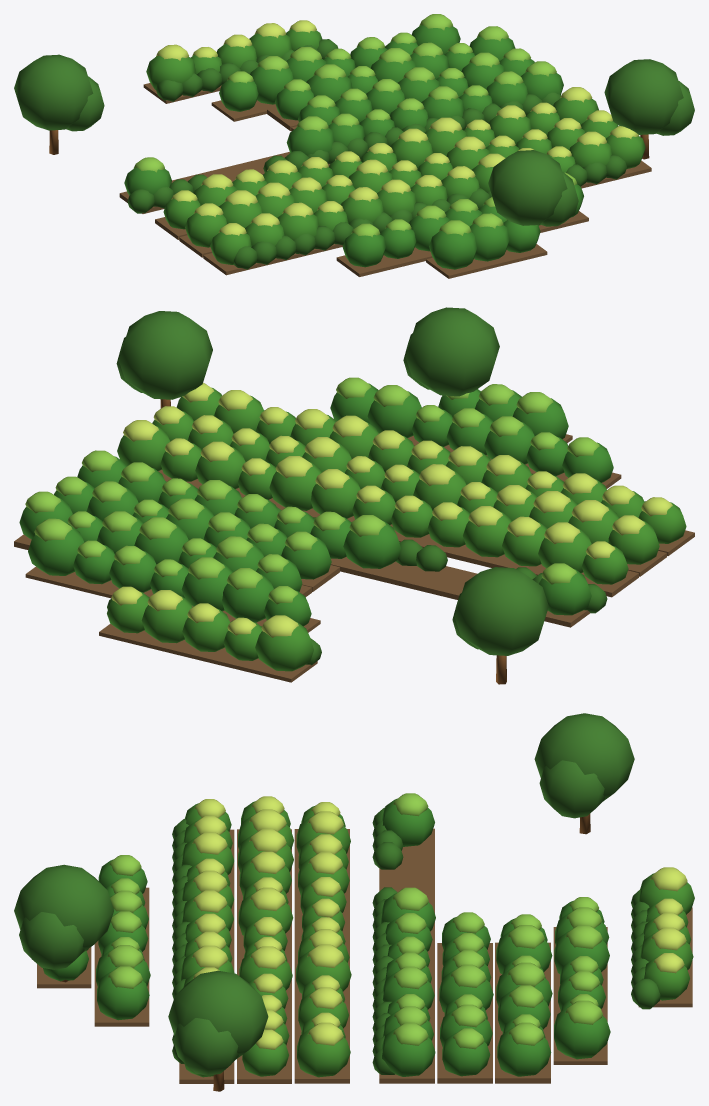
Rendered from improvement_plantation_0.fbx.
3 views of the same model, one above another, from view 1: azimuth 30°, elevation 25°; view 2: azimuth 150°, elevation 25°; view 3: azimuth 270°, elevation 25° (orthographic). The views are drawn at different scales.
Parts seen in each view (by area): view 1: improvement_plantation_0_shrub#3f8a2e_00, improvement_plantation_0_shrub#46902f_04, improvement_plantation_0_leaf#3f7a2c.006_07, improvement_plantation_0_shrubt#c8e060_05, improvement_plantation_0_hedgeb_03, improvement_plantation_0_shrubt#8cc84a_01, improvement_plantation_0_tilled.008_02; view 2: improvement_plantation_0_shrub#46902f_04, improvement_plantation_0_shrub#3f8a2e_00, improvement_plantation_0_shrubt#c8e060_05, improvement_plantation_0_leaf#3f7a2c.006_07, improvement_plantation_0_shrubt#8cc84a_01, improvement_plantation_0_tilled.008_02, improvement_plantation_0_hedgeb_03; view 3: improvement_plantation_0_shrub#3f8a2e_00, improvement_plantation_0_leaf#3f7a2c.006_07, improvement_plantation_0_shrub#46902f_04, improvement_plantation_0_shrubt#c8e060_05, improvement_plantation_0_shrubt#8cc84a_01, improvement_plantation_0_tilled.008_02, improvement_plantation_0_hedgeb_03.
Boxes of the visible parts, left/top/right/bottom form: improvement_plantation_0_shrub#3f8a2e_00: left=124, top=25, right=583, bottom=269; improvement_plantation_0_shrub#46902f_04: left=146, top=29, right=645, bottom=264; improvement_plantation_0_leaf#3f7a2c.006_07: left=14, top=54, right=694, bottom=226; improvement_plantation_0_shrubt#c8e060_05: left=156, top=20, right=638, bottom=235; improvement_plantation_0_hedgeb_03: left=127, top=39, right=626, bottom=269; improvement_plantation_0_shrubt#8cc84a_01: left=133, top=14, right=577, bottom=237; improvement_plantation_0_tilled.008_02: left=119, top=83, right=651, bottom=278; improvement_plantation_0_shrub#46902f_04: left=107, top=387, right=686, bottom=671; improvement_plantation_0_shrub#3f8a2e_00: left=19, top=383, right=613, bottom=626; improvement_plantation_0_shrubt#c8e060_05: left=111, top=382, right=672, bottom=637; improvement_plantation_0_leaf#3f7a2c.006_07: left=116, top=307, right=548, bottom=655; improvement_plantation_0_shrubt#8cc84a_01: left=25, top=377, right=599, bottom=604; improvement_plantation_0_tilled.008_02: left=14, top=433, right=694, bottom=682; improvement_plantation_0_hedgeb_03: left=107, top=410, right=645, bottom=665; improvement_plantation_0_shrub#3f8a2e_00: left=43, top=799, right=610, bottom=1076; improvement_plantation_0_leaf#3f7a2c.006_07: left=14, top=713, right=634, bottom=1075; improvement_plantation_0_shrub#46902f_04: left=181, top=801, right=694, bottom=1077; improvement_plantation_0_shrubt#c8e060_05: left=192, top=796, right=687, bottom=1049; improvement_plantation_0_shrubt#8cc84a_01: left=107, top=793, right=602, bottom=1049; improvement_plantation_0_tilled.008_02: left=37, top=828, right=692, bottom=1083; improvement_plantation_0_hedgeb_03: left=172, top=807, right=660, bottom=1074.
Bounding box in the file's own units: 187 × 33.1 × 177.
